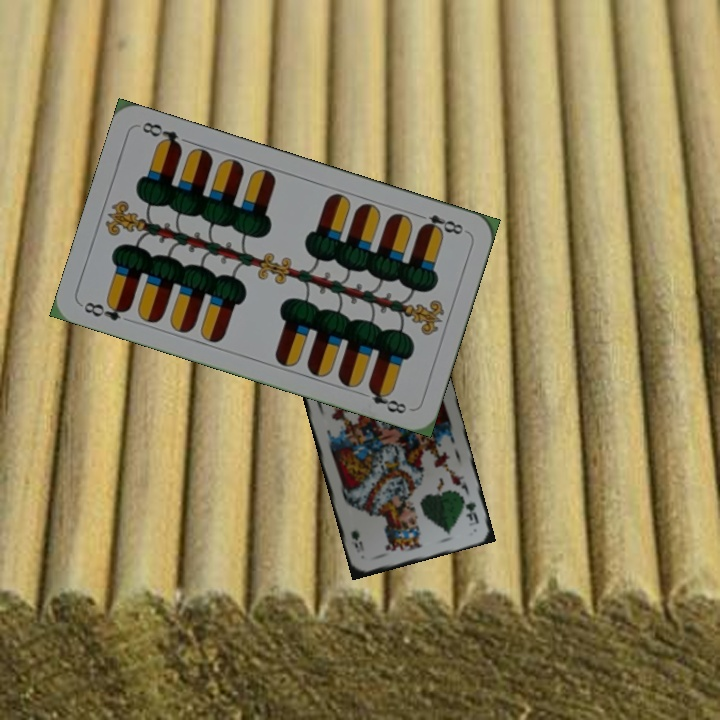E8: (412, 209, 466, 237), (80, 297, 132, 324)
GK: (458, 491, 481, 527)
